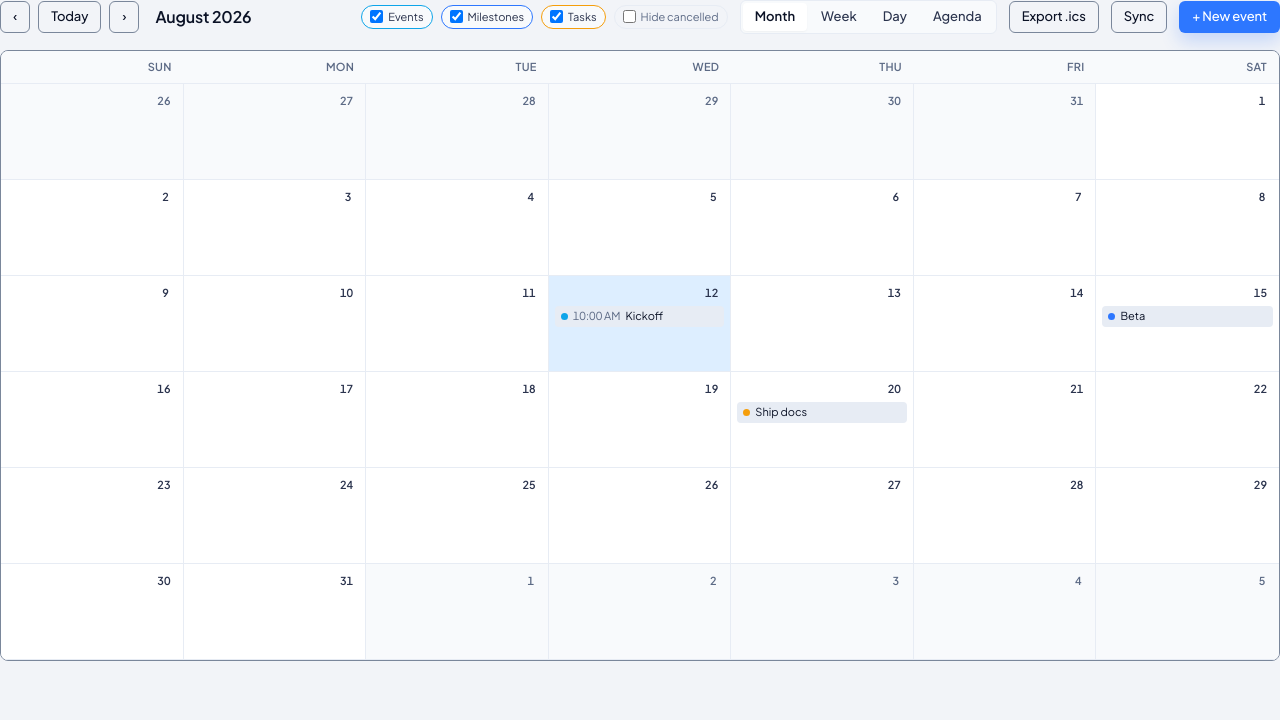
Test: CalendarPanel › clicking an event chip opens the edit dialog, not create
The width and height of the screenshot is (1280, 720).
Click the text "Kickoff" at (644, 316), box [626,308,663,324]
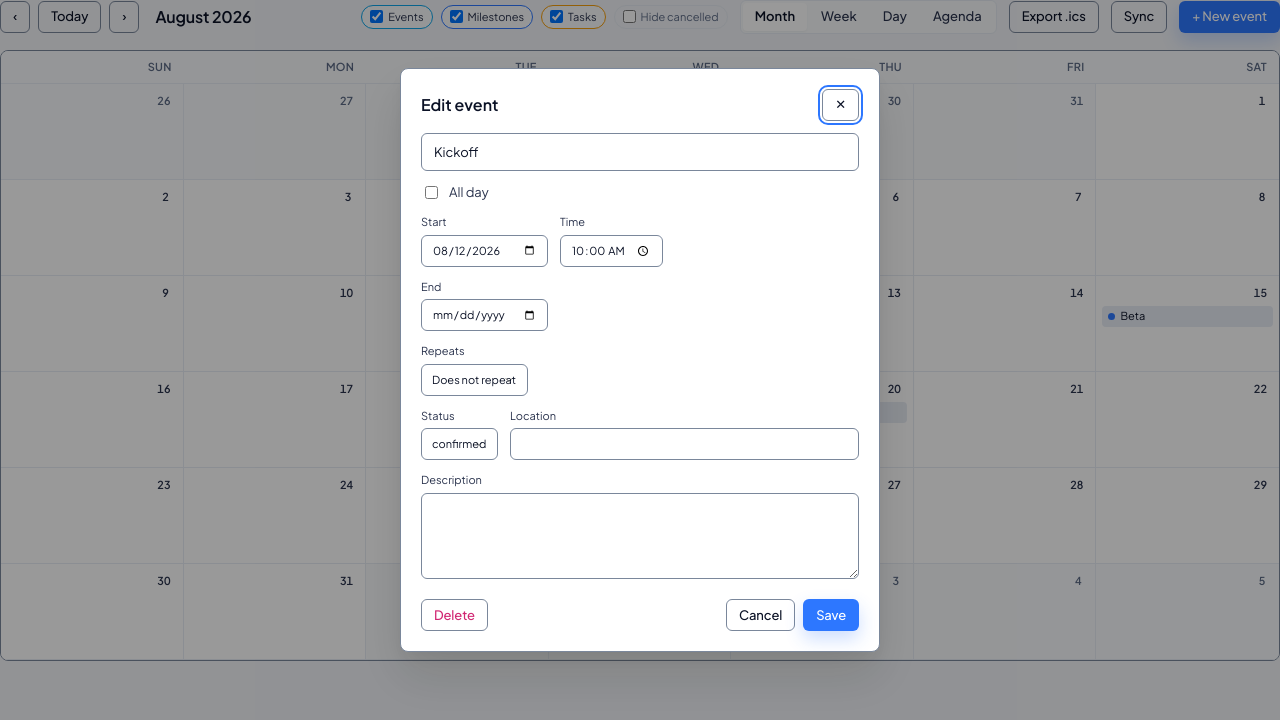
Expected: the text "Edit event" is shown, [421,93,498,117]
